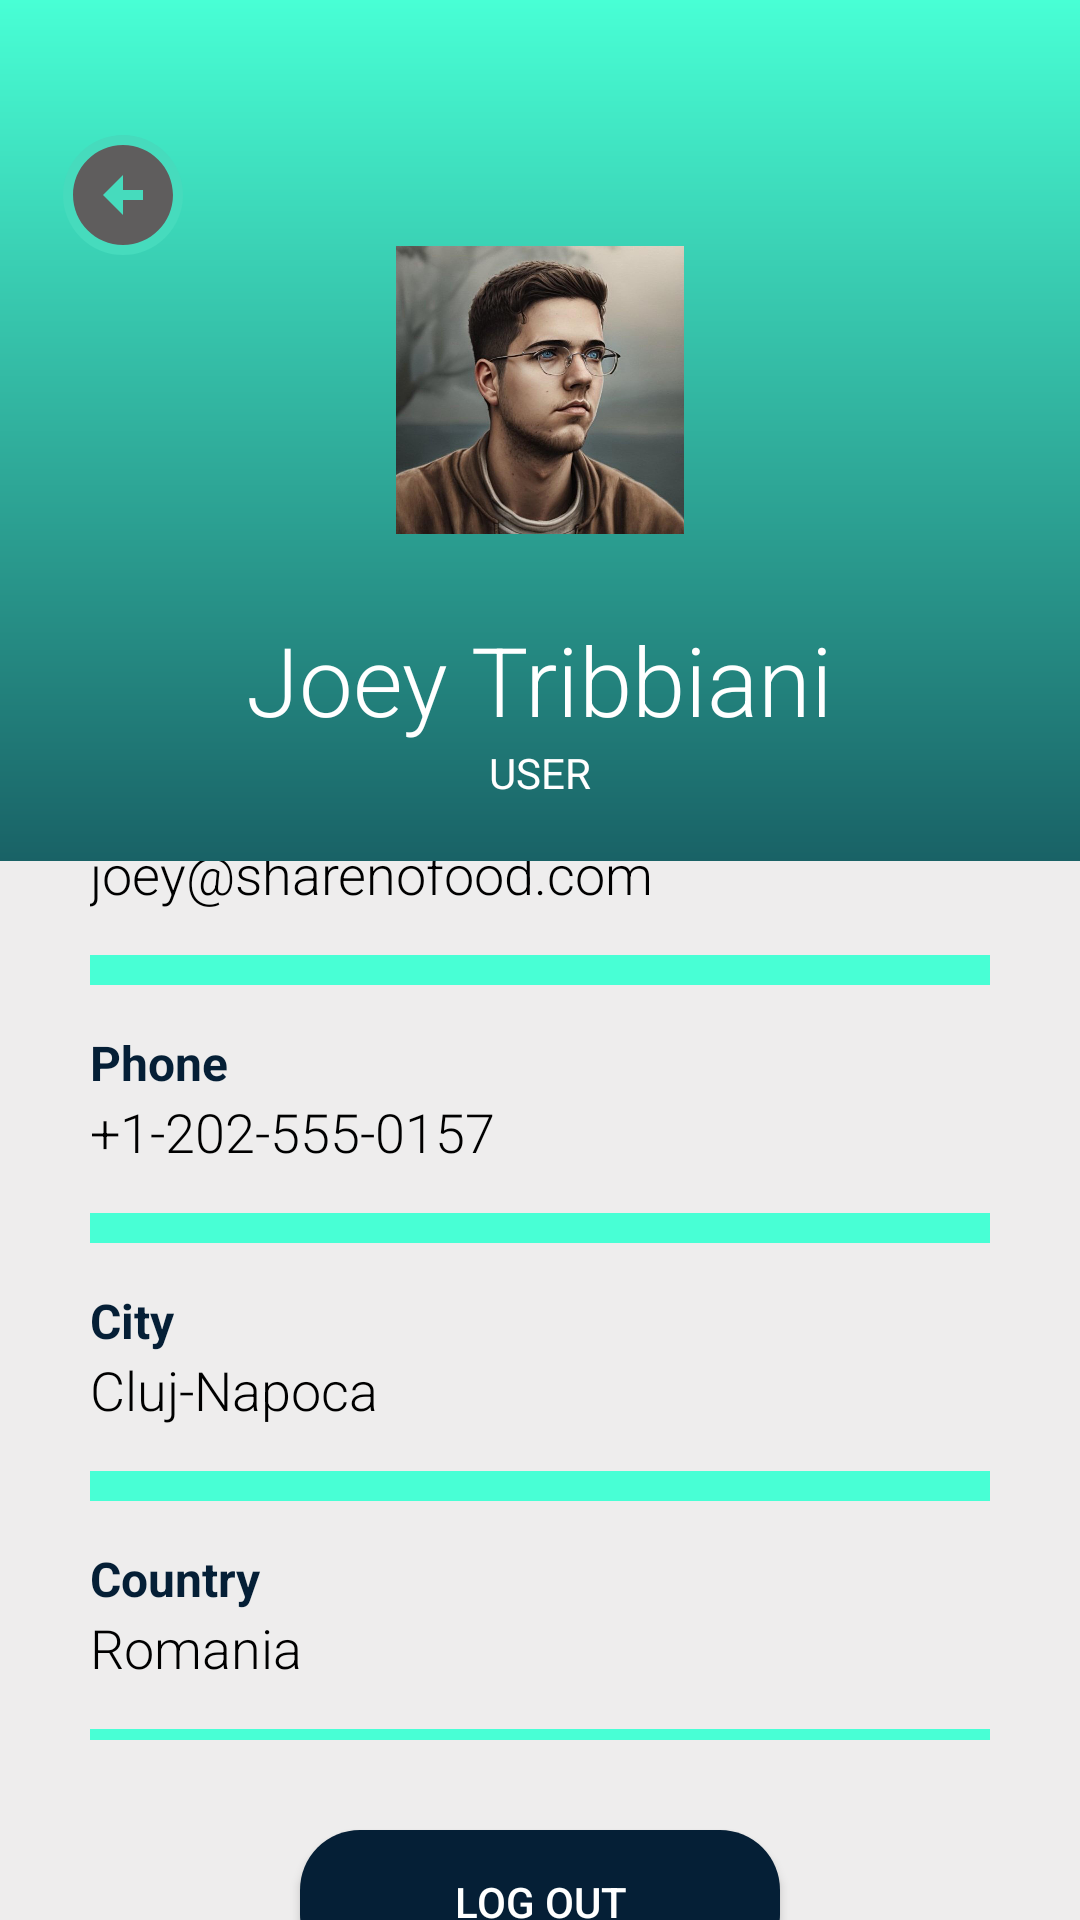

Point at icon controls on the screen. Image size 1080 x 1920, points as point (x, y).
profile: point (540, 390)
